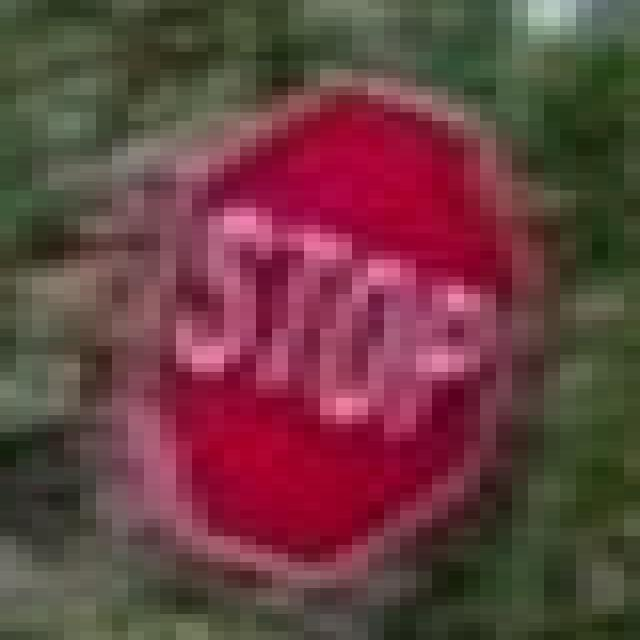Stop-Sign: (162, 87, 499, 584)
